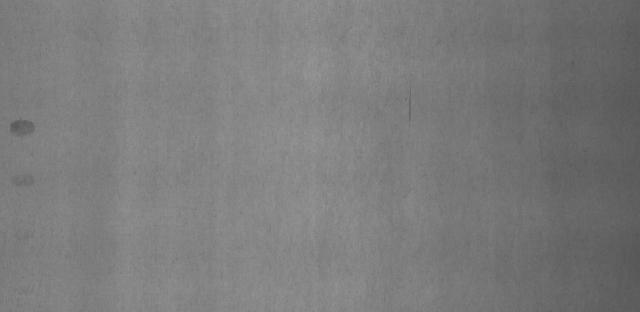oil_spot: (8, 110, 40, 140), (6, 167, 44, 192)
